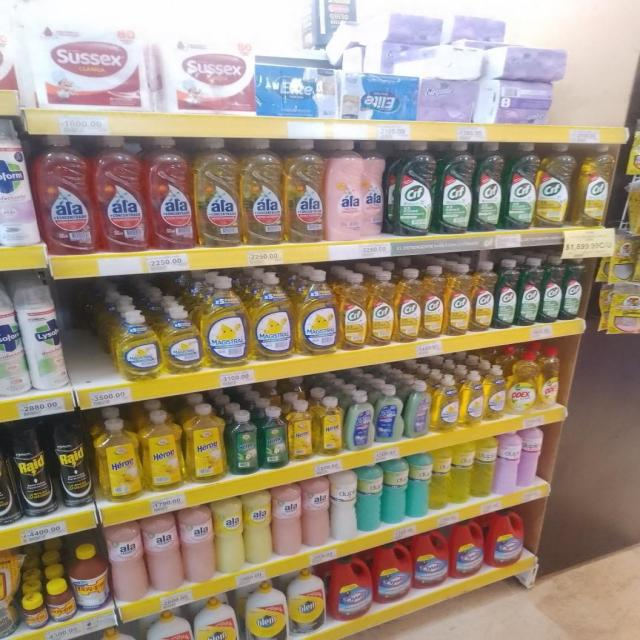ala_conc_amarillo: (195, 138, 240, 247), (241, 137, 283, 246), (285, 138, 325, 244)
ala_conc_rojo: (38, 134, 93, 254), (96, 136, 146, 252), (148, 136, 194, 250)
ala_crem_amarillo: (215, 498, 243, 574), (245, 491, 271, 565)
ala_crem_blanco: (331, 469, 356, 542)
ala_crem_rosado: (109, 521, 144, 603), (146, 513, 180, 592), (181, 504, 214, 584), (272, 484, 301, 556), (303, 476, 329, 548)
ala_ultra_rosa: (326, 138, 364, 242), (361, 139, 386, 239)
cif_conc_bot_amarilla: (576, 143, 614, 228), (537, 142, 574, 228), (340, 271, 368, 351), (368, 270, 394, 346), (396, 267, 421, 343), (446, 262, 470, 336), (422, 265, 444, 339), (472, 260, 494, 332)
cif_conc_botella_verde: (391, 140, 434, 236), (437, 140, 473, 234), (505, 141, 536, 230), (474, 141, 504, 232), (563, 256, 588, 321), (518, 256, 541, 326), (496, 258, 517, 329), (542, 256, 562, 323)
magistral_con_amarillo: (203, 275, 248, 368), (250, 271, 294, 361), (296, 268, 337, 356), (114, 309, 160, 380), (162, 306, 202, 374), (432, 374, 459, 434), (461, 370, 483, 428), (0, 432, 13, 527), (484, 365, 506, 421)
odex: (507, 348, 538, 416)
